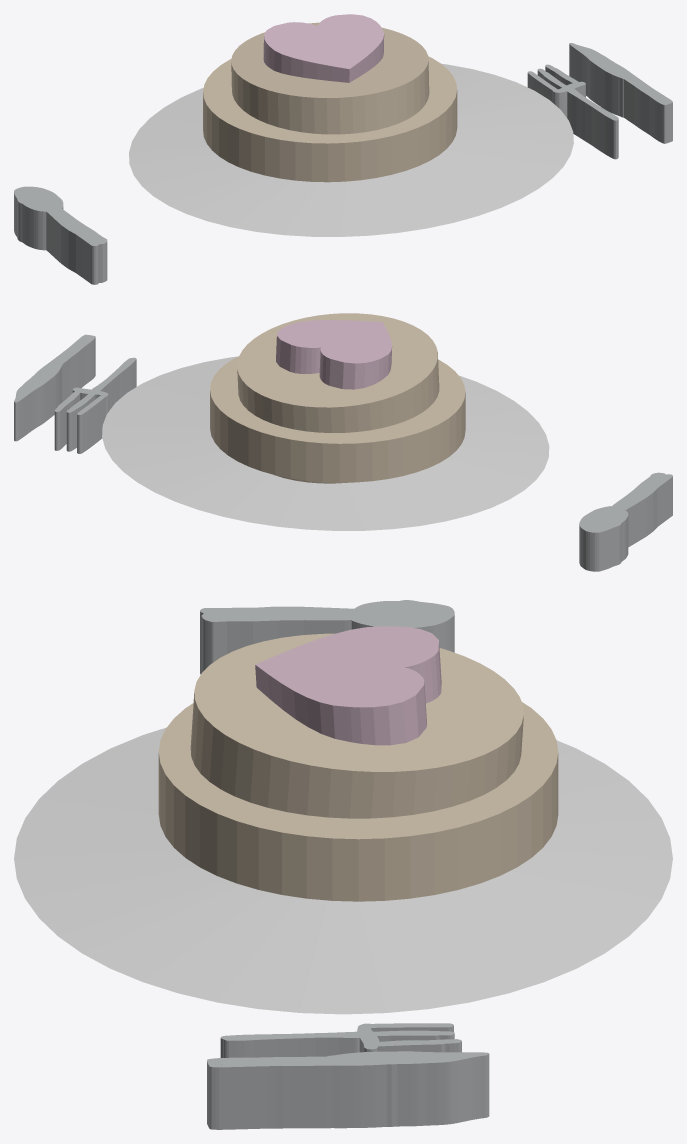
Rendered from Emma Wilson plate and cake.glb.
The picture shows the model from 3 angles, top to bottom: view 1: azimuth 30°, elevation 25°; view 2: azimuth 150°, elevation 25°; view 3: azimuth 270°, elevation 25°; orthographic projection. The views are drawn at different scales.
Visible parts, largest first — view 1: Mesh_Mesh_head_geo.001_lambert2SG.001; view 2: Mesh_Mesh_head_geo.001_lambert2SG.001; view 3: Mesh_Mesh_head_geo.001_lambert2SG.001.
Part boxes in pixels (<box>): Mesh_Mesh_head_geo.001_lambert2SG.001: <box>14,14,672,284</box>; Mesh_Mesh_head_geo.001_lambert2SG.001: <box>14,313,672,571</box>; Mesh_Mesh_head_geo.001_lambert2SG.001: <box>14,600,672,1129</box>.
Size of the model in its own units: 0.1605 by 0.039 by 0.0956.
